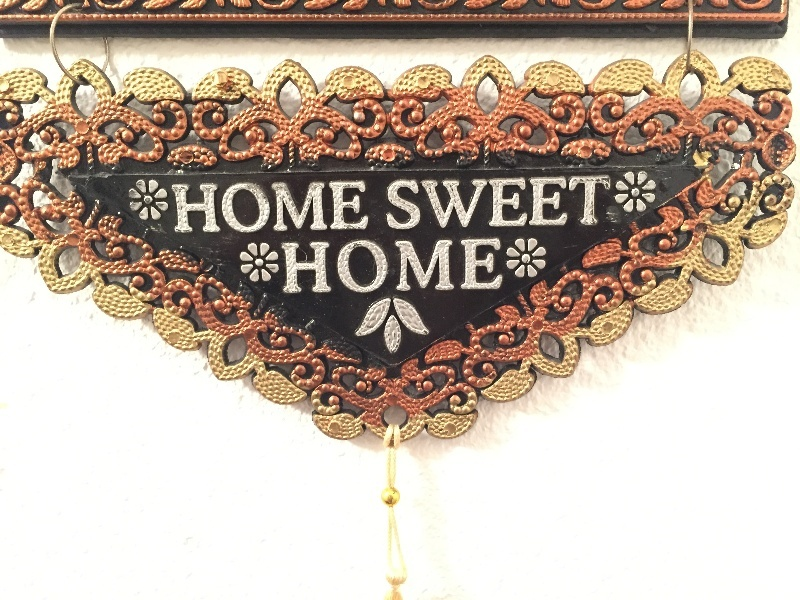text: (289, 238, 304, 295), (305, 238, 320, 295), (321, 238, 336, 295), (337, 238, 352, 295), (353, 238, 368, 295), (369, 238, 384, 295), (385, 238, 400, 295), (401, 238, 416, 295), (417, 238, 432, 295), (433, 238, 448, 295), (449, 238, 464, 295), (465, 238, 480, 295), (481, 238, 496, 295), (401, 175, 416, 231), (417, 175, 432, 231), (433, 175, 448, 231), (449, 175, 464, 231), (465, 175, 480, 231), (481, 175, 496, 231), (497, 175, 512, 231), (513, 175, 528, 231), (529, 175, 544, 231), (545, 175, 560, 231), (561, 175, 576, 231), (577, 175, 592, 231), (593, 175, 608, 231), (177, 182, 192, 233), (193, 182, 208, 233), (209, 182, 224, 233), (225, 182, 240, 233), (241, 182, 256, 233), (257, 182, 272, 233), (273, 182, 288, 233), (289, 182, 304, 233), (305, 182, 320, 233), (321, 182, 336, 233), (337, 182, 352, 233), (353, 182, 368, 233), (387, 175, 400, 231), (280, 238, 288, 295), (497, 238, 503, 295), (170, 182, 176, 233), (609, 175, 612, 231), (369, 182, 370, 233)
